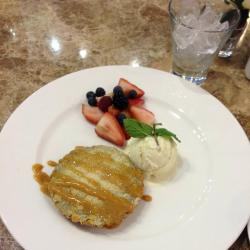apple_pie: (44, 143, 148, 229)
icecream: (124, 125, 181, 181)
